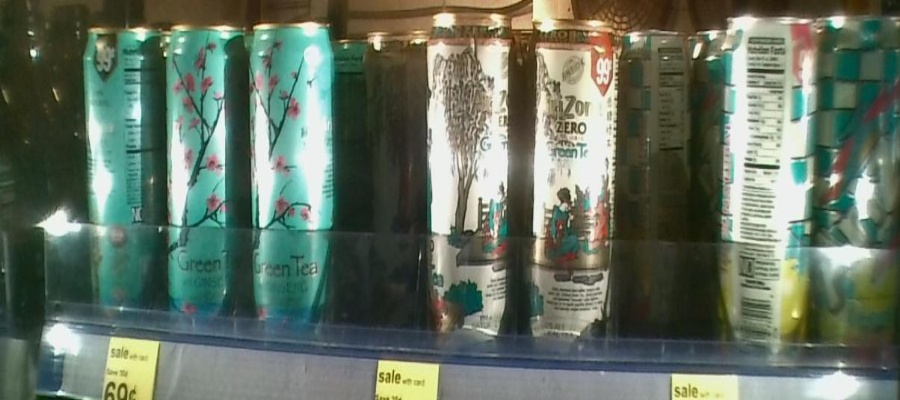bottle: (718, 10, 816, 373), (521, 4, 616, 361), (422, 12, 517, 343), (819, 3, 898, 379), (247, 12, 336, 330), (620, 14, 702, 343), (79, 16, 164, 323), (168, 16, 244, 329)
